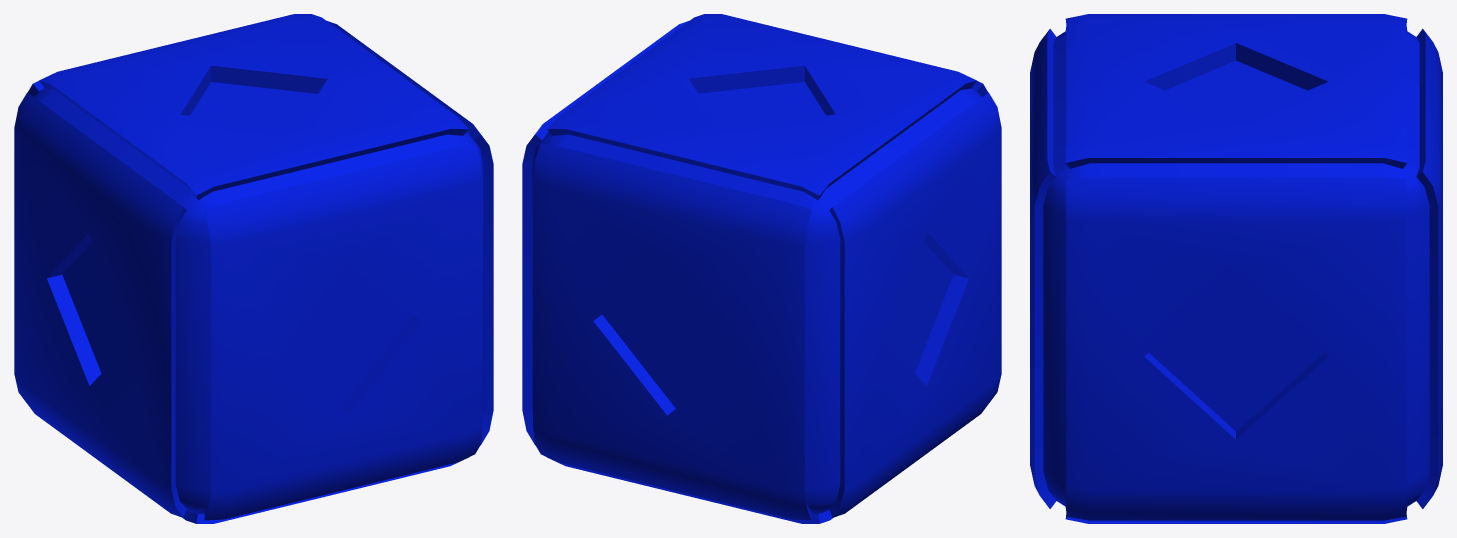
3 renders of one model, left to right at view 1: azimuth 30°, elevation 25°; view 2: azimuth 150°, elevation 25°; view 3: azimuth 270°, elevation 25°, orthographic. The views are drawn at different scales.
Parts seen in each view (by area): view 1: Cube; view 2: Cube; view 3: Cube.
Boxes of the visible parts, left/top/right/bottom form: Cube: left=14, top=14, right=493, bottom=523; Cube: left=522, top=14, right=1001, bottom=523; Cube: left=1030, top=14, right=1442, bottom=523.
Size of the model in its own units: 200 by 200 by 200.
